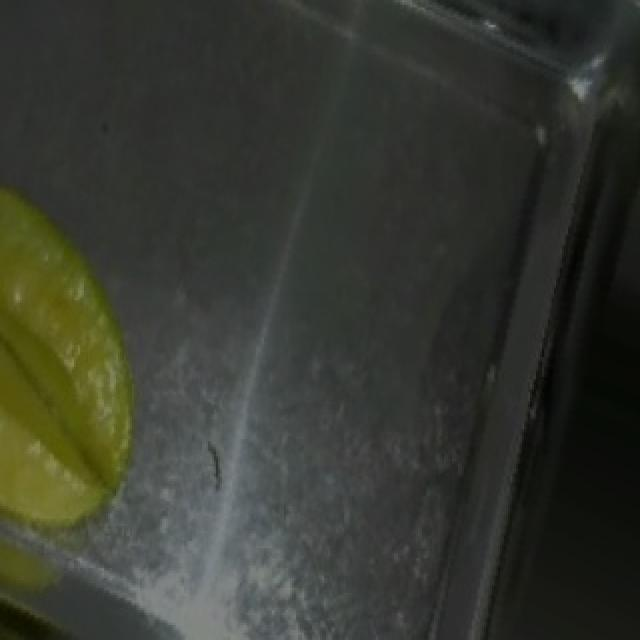fruit: (0, 166, 218, 568)
